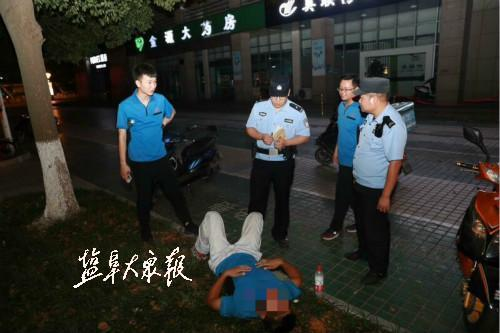Fall-Detected: (180, 202, 307, 330)
